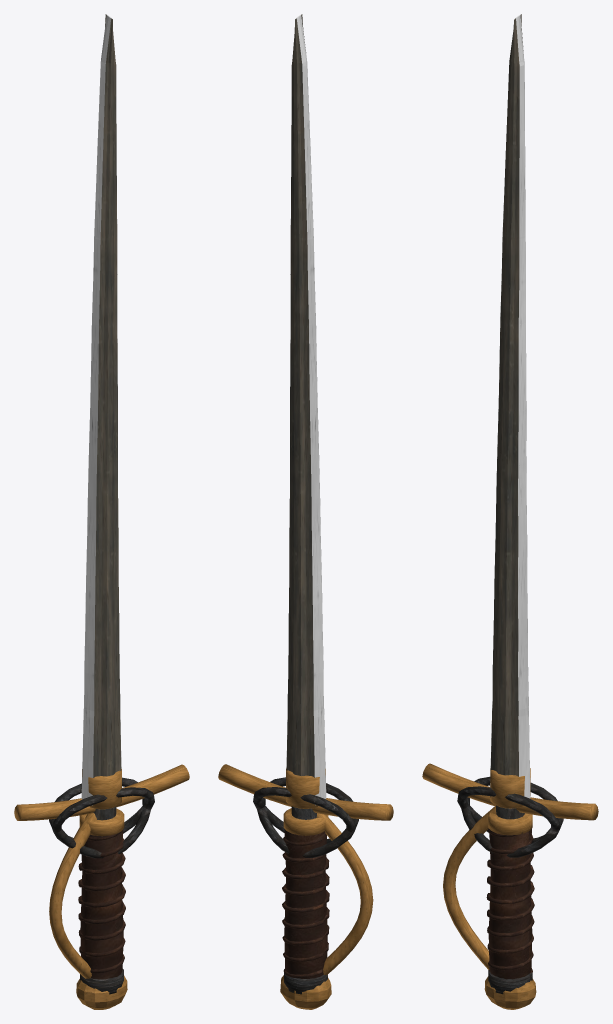
The model's file is funeral_rapier.glb.
3 views of the same model, side by side, from view 1: azimuth 30°, elevation 25°; view 2: azimuth 150°, elevation 25°; view 3: azimuth 330°, elevation 25° (orthographic).
Visible parts, largest first — view 1: Forged Blade with Eased Bevels.002, Bound palm grip.002, Forged knuckle sweep.001, Hand-forged crossguard.002, Continuous bound leather seam.002, Protective quillon loop.001, Protective quillon loop, Cast counterweight.002, Rounded blade shoulder.002, Grip forward ferrule.002, Grip rear ferrule.002; view 2: Forged Blade with Eased Bevels.002, Bound palm grip.002, Forged knuckle sweep.001, Hand-forged crossguard.002, Continuous bound leather seam.002, Protective quillon loop, Protective quillon loop.001, Rounded blade shoulder.002, Cast counterweight.002, Grip forward ferrule.002, Grip rear ferrule.002; view 3: Forged Blade with Eased Bevels.002, Bound palm grip.002, Forged knuckle sweep.001, Continuous bound leather seam.002, Hand-forged crossguard.002, Protective quillon loop.001, Protective quillon loop, Rounded blade shoulder.002, Cast counterweight.002, Grip forward ferrule.002, Grip rear ferrule.002.
Part boxes in pixels (x1,y1,x2,y2): Forged Blade with Eased Bevels.002: [81, 14, 121, 805]; Bound palm grip.002: [80, 829, 123, 979]; Forged knuckle sweep.001: [49, 813, 96, 978]; Hand-forged crossguard.002: [14, 764, 189, 820]; Continuous bound leather seam.002: [78, 830, 125, 973]; Protective quillon loop.001: [49, 777, 150, 858]; Protective quillon loop: [53, 787, 154, 841]; Cast counterweight.002: [76, 975, 127, 1009]; Rounded blade shoulder.002: [82, 769, 121, 809]; Grip forward ferrule.002: [79, 808, 124, 836]; Grip rear ferrule.002: [80, 969, 123, 994]; Forged Blade with Eased Bevels.002: [286, 14, 326, 805]; Bound palm grip.002: [284, 829, 327, 978]; Forged knuckle sweep.001: [316, 813, 373, 974]; Hand-forged crossguard.002: [218, 764, 393, 820]; Continuous bound leather seam.002: [282, 834, 329, 978]; Protective quillon loop: [257, 777, 358, 857]; Protective quillon loop.001: [253, 787, 354, 843]; Rounded blade shoulder.002: [286, 768, 325, 808]; Cast counterweight.002: [280, 975, 331, 1009]; Grip forward ferrule.002: [283, 808, 328, 835]; Grip rear ferrule.002: [284, 969, 327, 994]; Forged Blade with Eased Bevels.002: [490, 14, 530, 798]; Bound palm grip.002: [488, 829, 532, 979]; Forged knuckle sweep.001: [443, 806, 496, 969]; Continuous bound leather seam.002: [486, 828, 534, 977]; Hand-forged crossguard.002: [422, 763, 598, 820]; Protective quillon loop.001: [461, 776, 563, 857]; Protective quillon loop: [457, 786, 559, 842]; Rounded blade shoulder.002: [490, 768, 530, 808]; Cast counterweight.002: [484, 976, 536, 1009]; Grip forward ferrule.002: [488, 812, 532, 835]; Grip rear ferrule.002: [488, 970, 532, 994].
Bounding box in the file's own units: 0.2297 × 1.28 × 0.0559.
5 materials, 5 textured.
